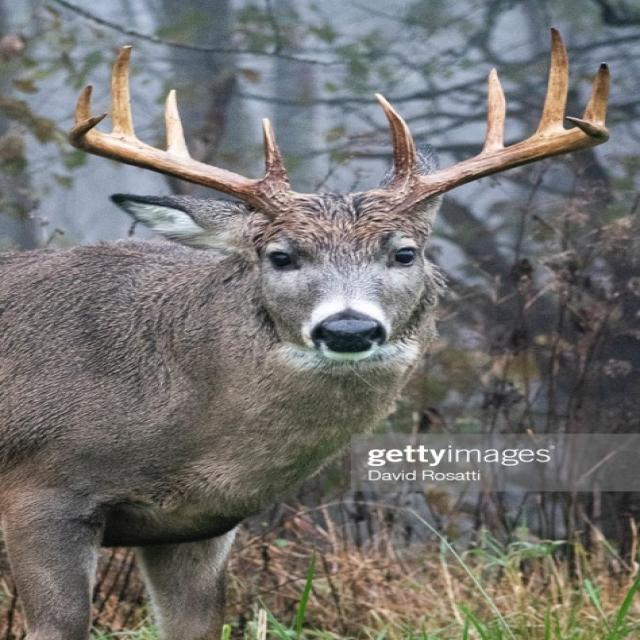L-F: (382, 116, 611, 215)
L-G1: (374, 92, 419, 181)
L-G2: (482, 67, 506, 153)
L-G3: (535, 26, 569, 134)
R-F: (67, 113, 300, 220)
R-G1: (261, 117, 292, 190)
R-G2: (164, 88, 191, 158)
R-G3: (110, 43, 136, 137)
